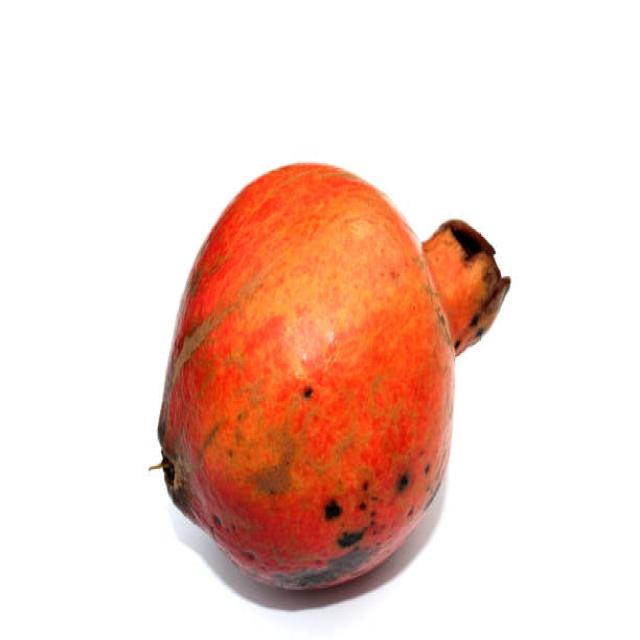overripe: (156, 155, 514, 596)
